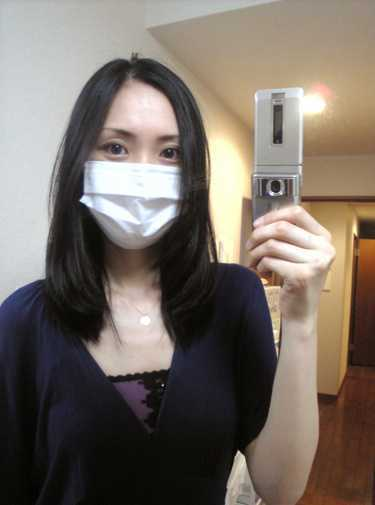face_mask: (84, 79, 182, 249)
